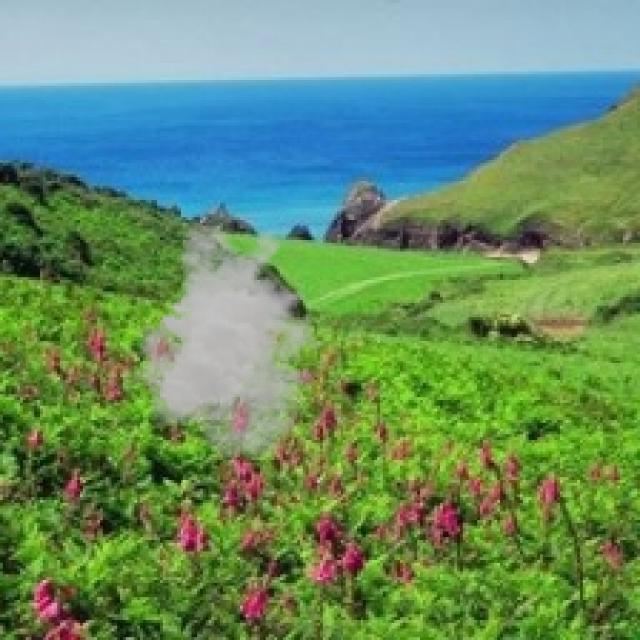smoke: (132, 220, 337, 460)
